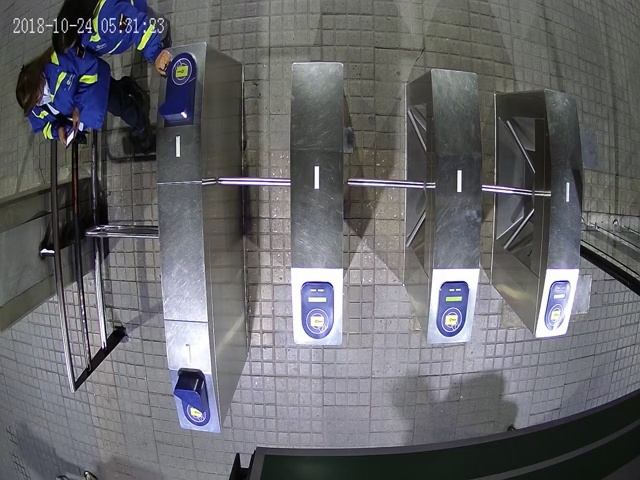Chaleco_azul: (15, 46, 152, 146), (51, 1, 173, 75)
